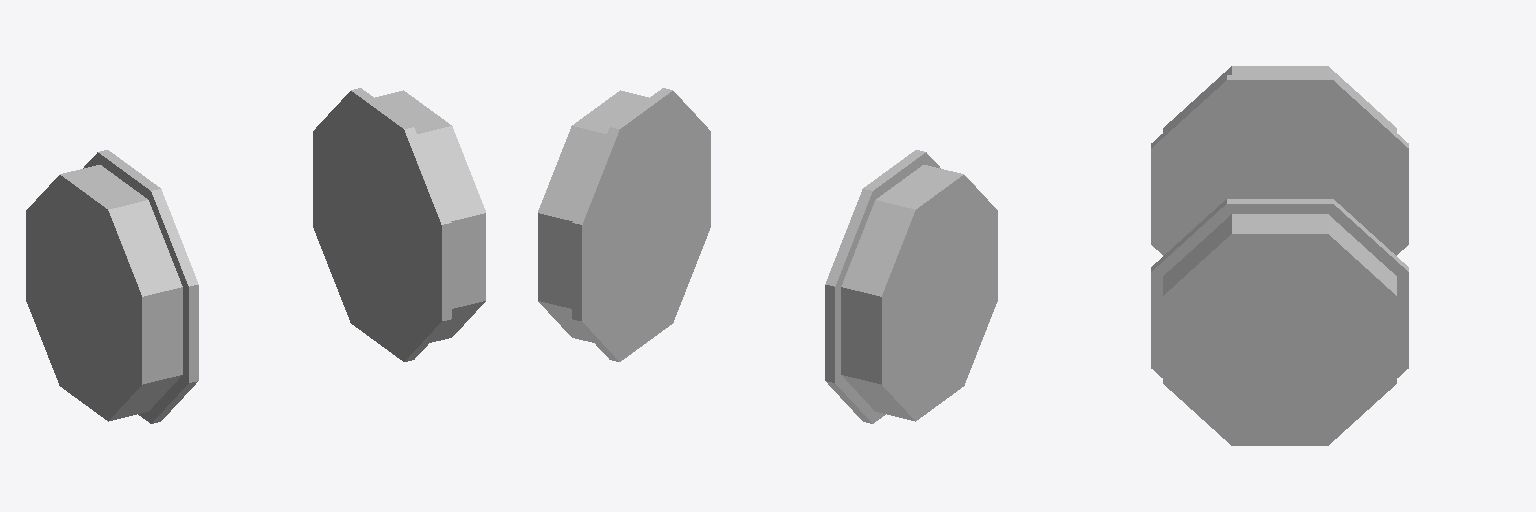
The model's file is wheel_center.obj.
The picture shows the model from 3 angles: view 1: azimuth 30°, elevation 25°; view 2: azimuth 150°, elevation 25°; view 3: azimuth 270°, elevation 25°; orthographic projection.
Visible parts, largest first — view 1: Cube.002; view 2: Cube.002; view 3: Cube.002.
Boxes of the visible parts, x1,y1,x2,y2 form: Cube.002: [26, 88, 485, 423]; Cube.002: [538, 88, 997, 423]; Cube.002: [1151, 66, 1408, 445].
Size of the model in its own units: 2.12 by 1.38 by 1.38.